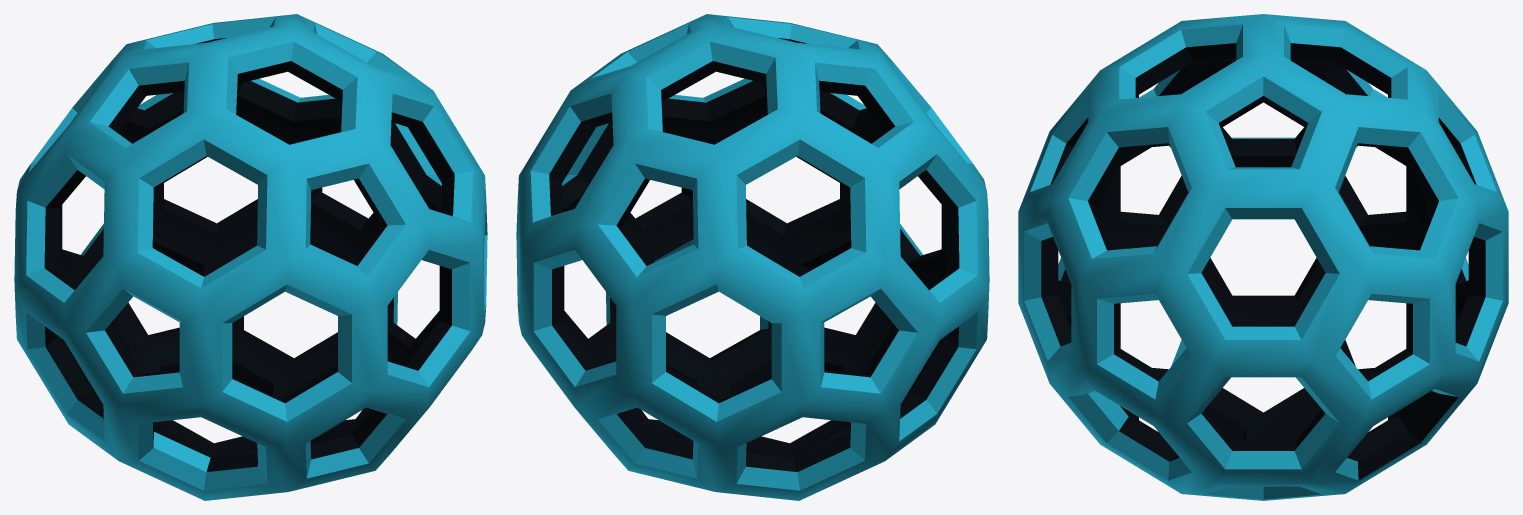
File: SocketModel.dae
The picture shows the model from 3 angles, left to right: view 1: azimuth 30°, elevation 25°; view 2: azimuth 150°, elevation 25°; view 3: azimuth 270°, elevation 25°; orthographic projection.
Visible parts, largest first — view 1: fullerenmolecule; view 2: fullerenmolecule; view 3: fullerenmolecule.
Boxes of the visible parts, x1,y1,x2,y2 form: fullerenmolecule: [14, 14, 487, 500]; fullerenmolecule: [516, 14, 989, 500]; fullerenmolecule: [1018, 14, 1508, 500].
Bounding box in the file's own units: 0.9888 × 0.9888 × 0.9888.
